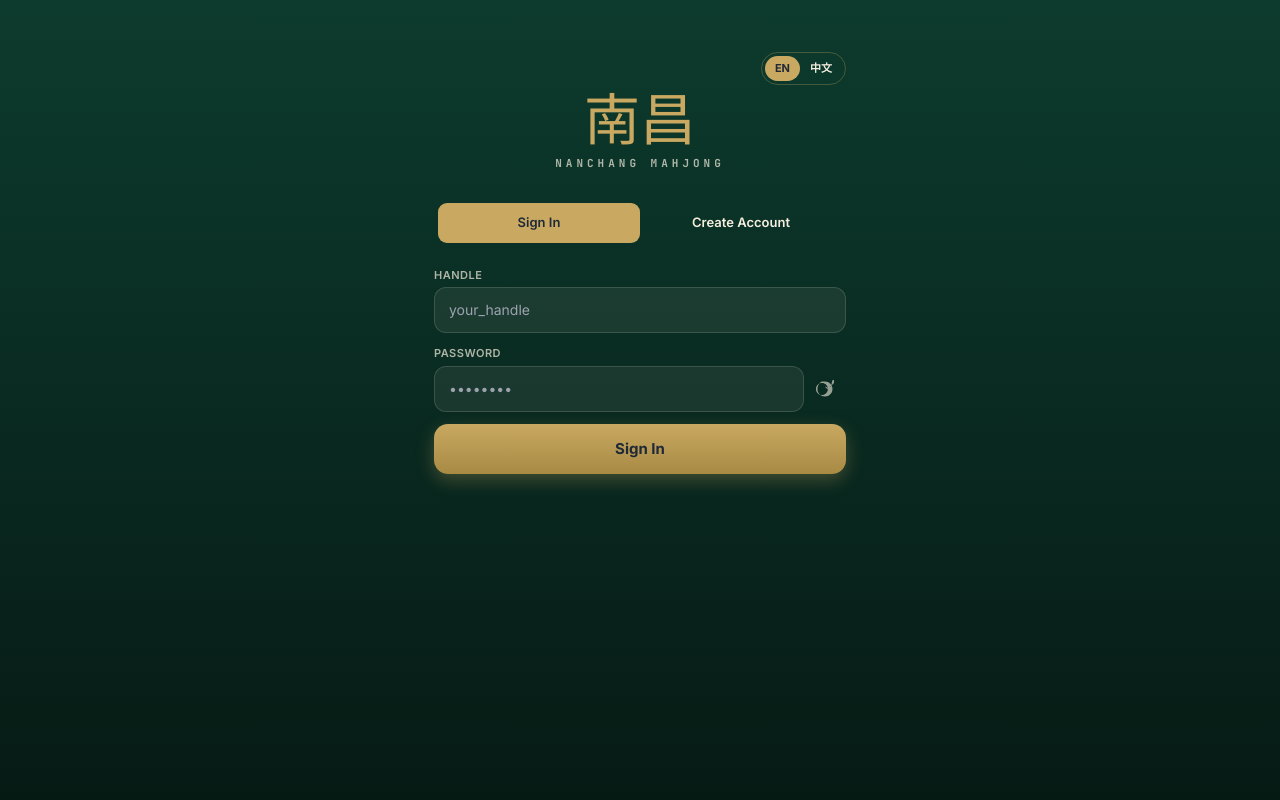
Test: AuthPage › switches to the sign-up form when the Create Account tab is clicked
Click the tab "Create Account": (741, 223) [640,203,842,242]
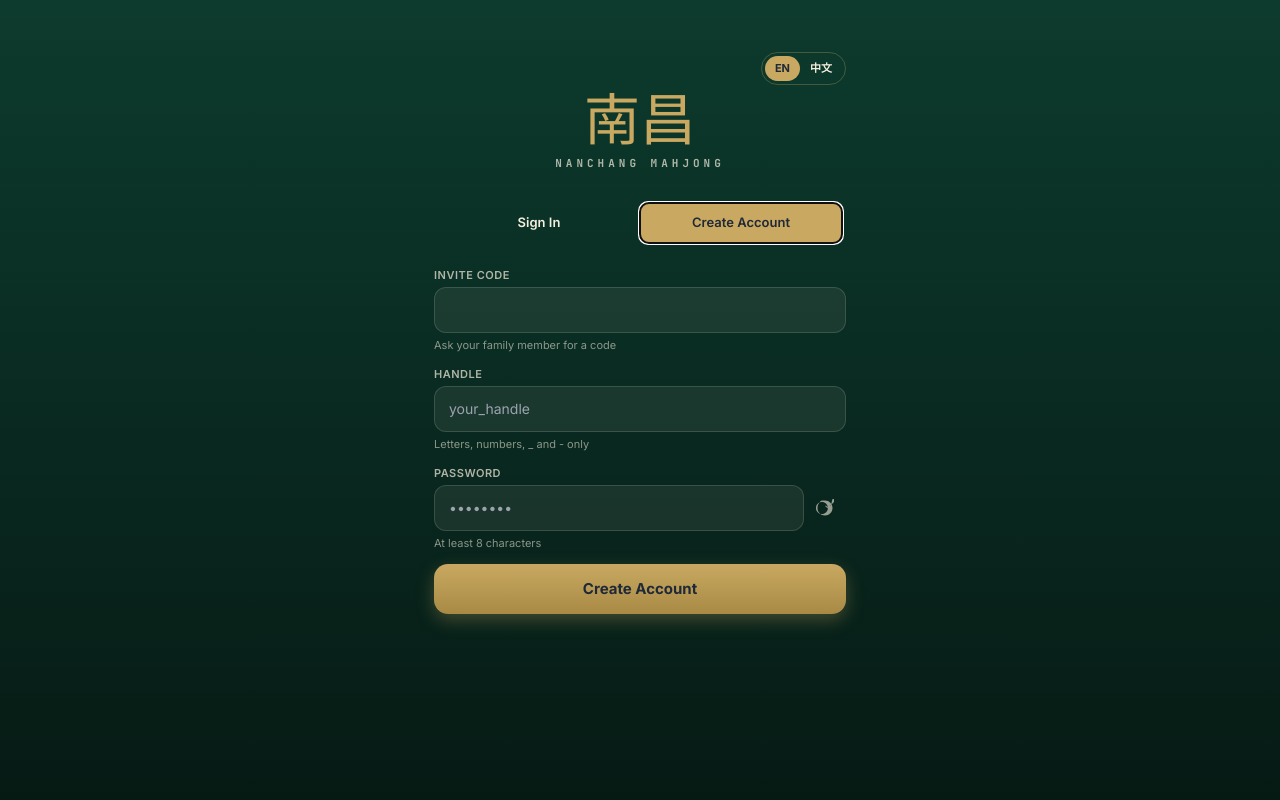
expect the field labelled "Handle" is shown: met, box [434,386,846,432]
expect the field labelled "Invite code" is shown: met, box [434,287,846,333]
